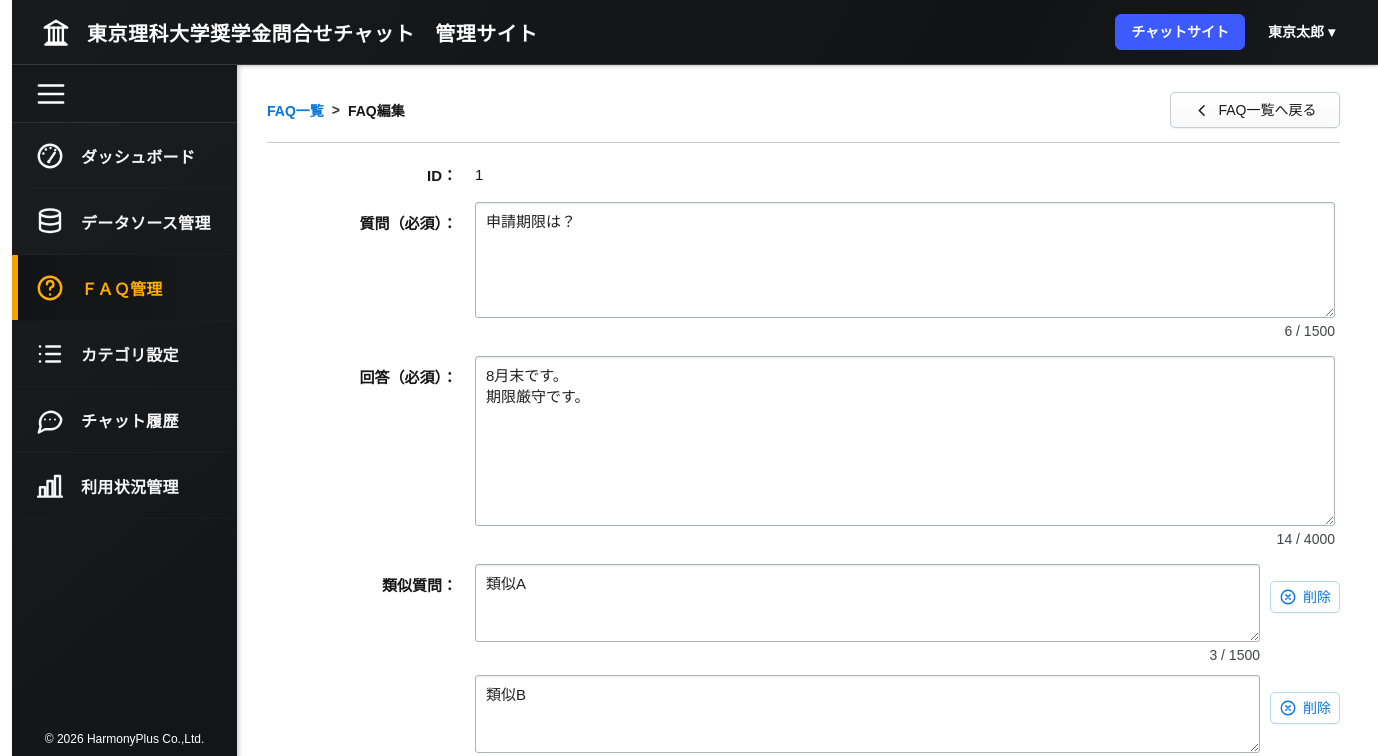
CB-210 FAQ edit › 類似質問の追加・変更・削除と順序をdirty対象にする
Expected: the text box showing "申請期限は？" is shown, x1=475 y1=202 x2=1335 y2=318
Click the 1st button "削除". click: (1305, 597)
box: x1=1270 y1=581 x2=1340 y2=613
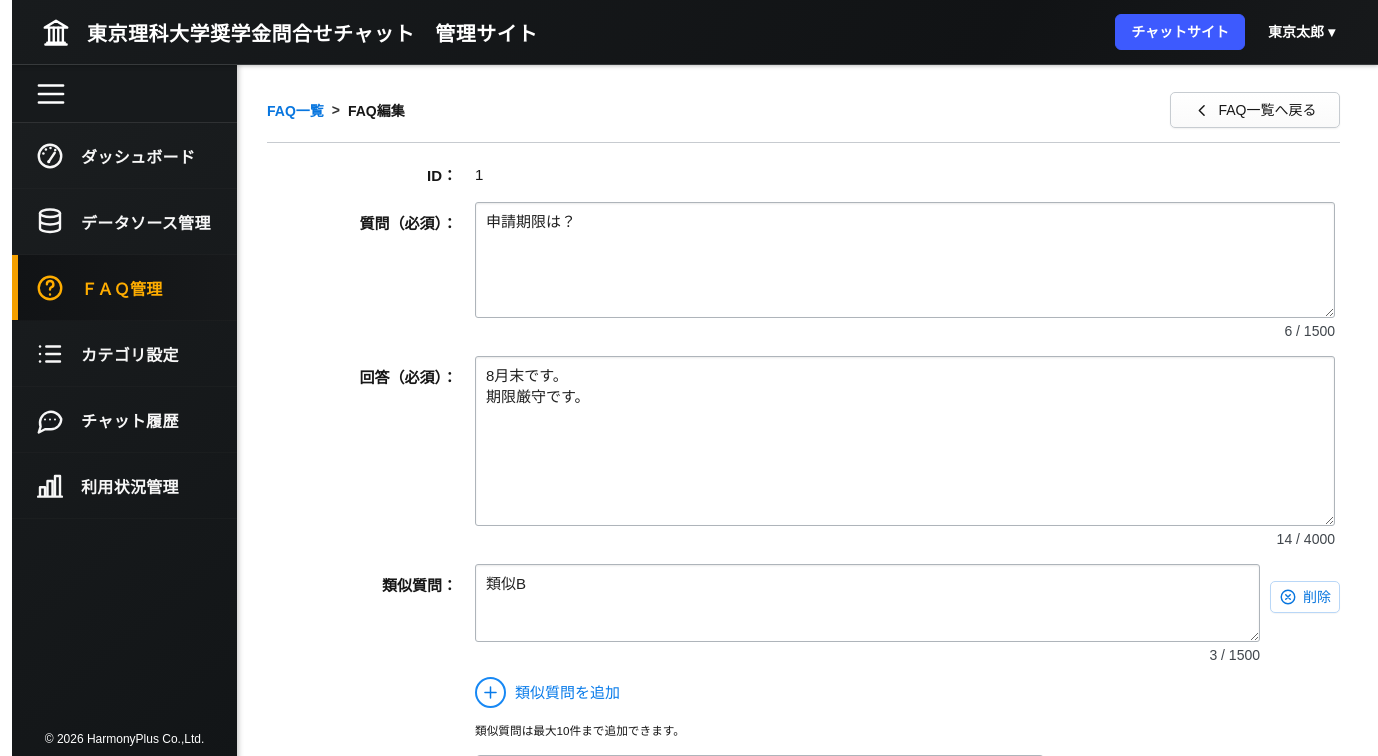
Click the button "類似質問を追加". click: (552, 692)
box: x1=475 y1=675 x2=628 y2=709
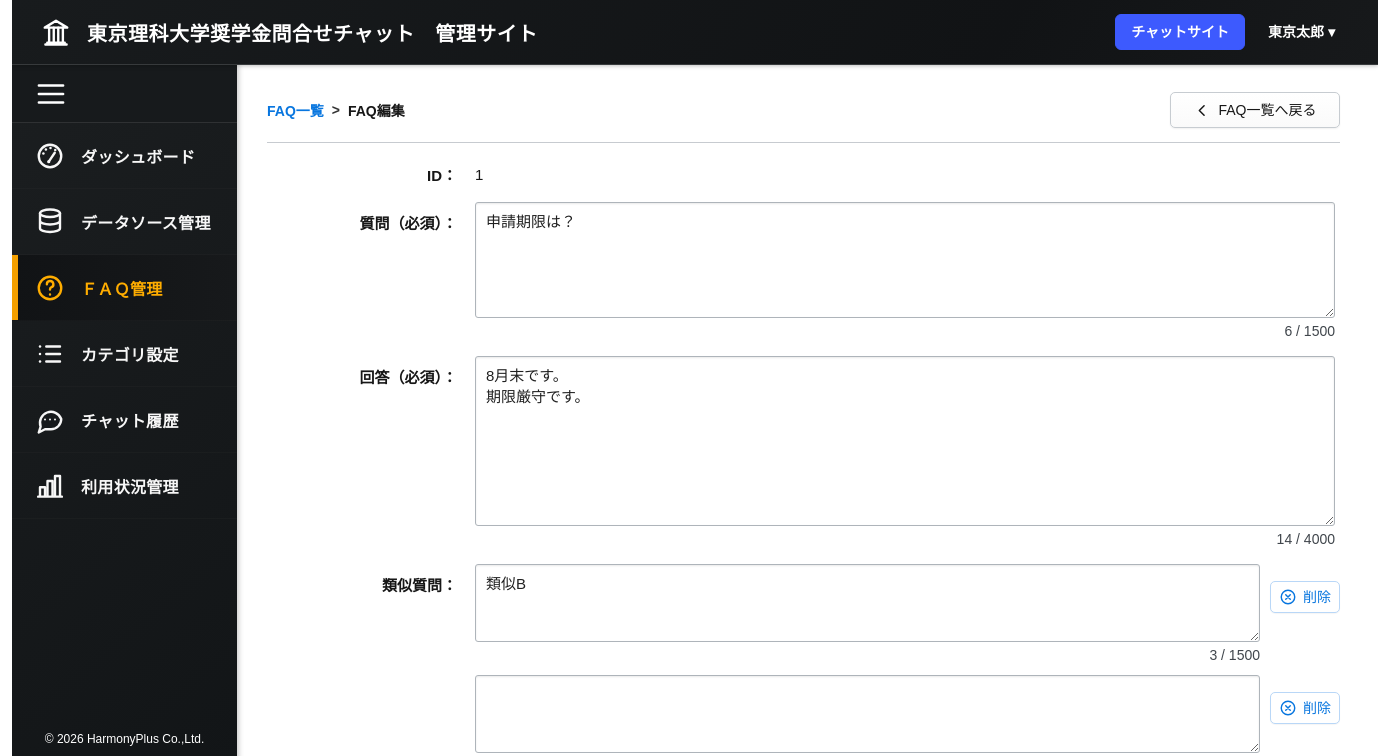
Type "類似A" into the text box named "類似質問2". click: (868, 714)
box: x1=475 y1=675 x2=1260 y2=753
(page scrolled)
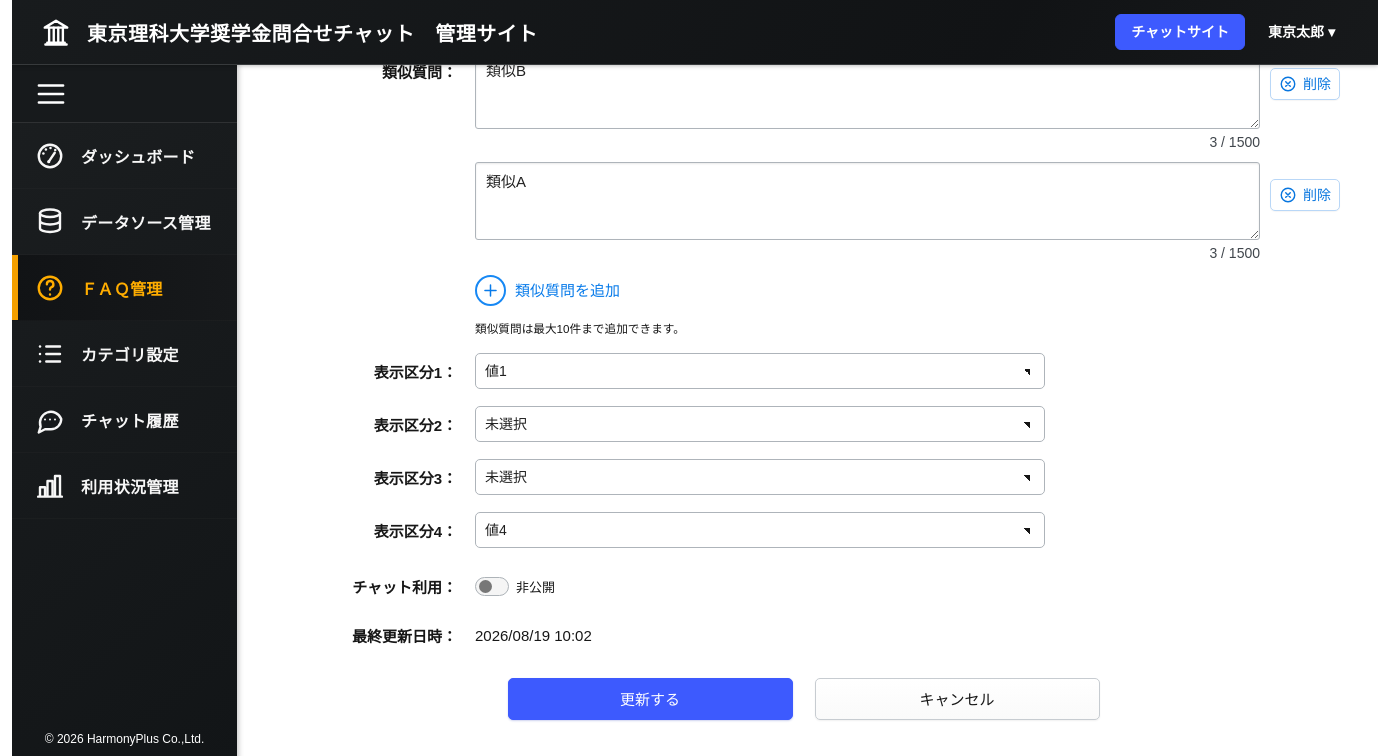
Now the text box named "類似質問1" holds "類似B", box x1=475 y1=51 x2=1260 y2=129
Now the button "更新する" is enabled, box x1=508 y1=678 x2=792 y2=720
